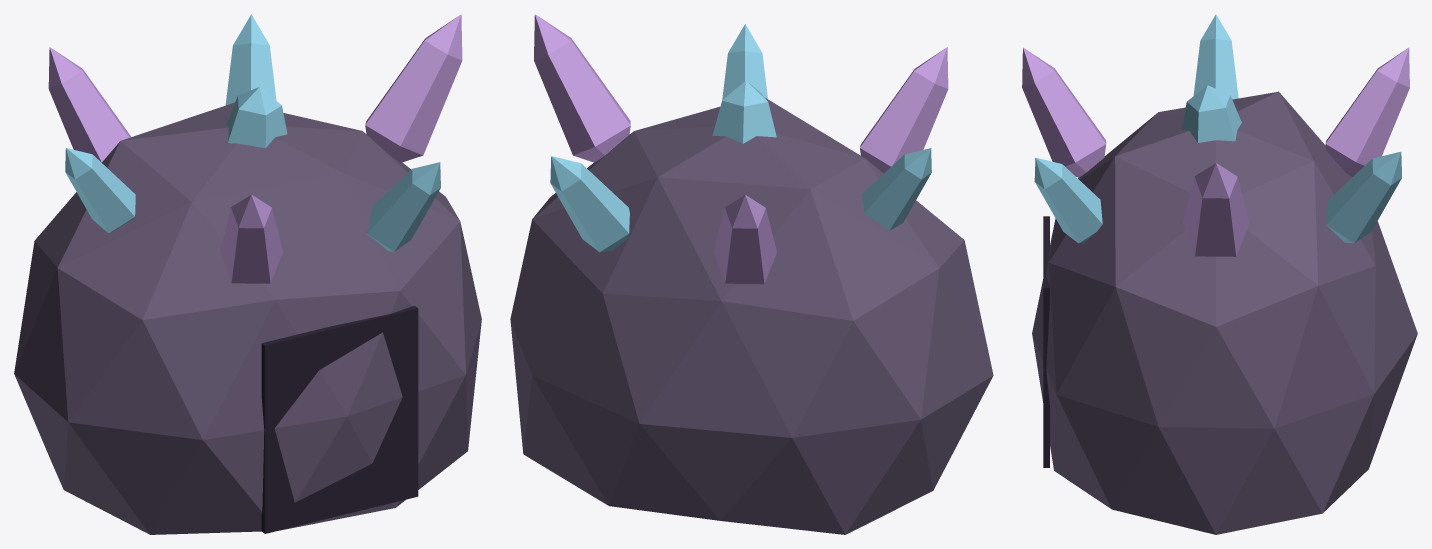
File: cave-g1.glb
3 views of the same model, side by side, from view 1: azimuth 30°, elevation 25°; view 2: azimuth 150°, elevation 25°; view 3: azimuth 270°, elevation 25° (orthographic). The views are drawn at different scales.
Parts seen in each view (by area): view 1: cave-g1; view 2: cave-g1; view 3: cave-g1.
Boxes of the visible parts, x1=… form: cave-g1: x1=14, y1=14, x2=481, y2=534; cave-g1: x1=510, y1=14, x2=993, y2=534; cave-g1: x1=1022, y1=14, x2=1417, y2=534.
Bounding box in the file's own units: 1.42 × 1.26 × 1.2.
